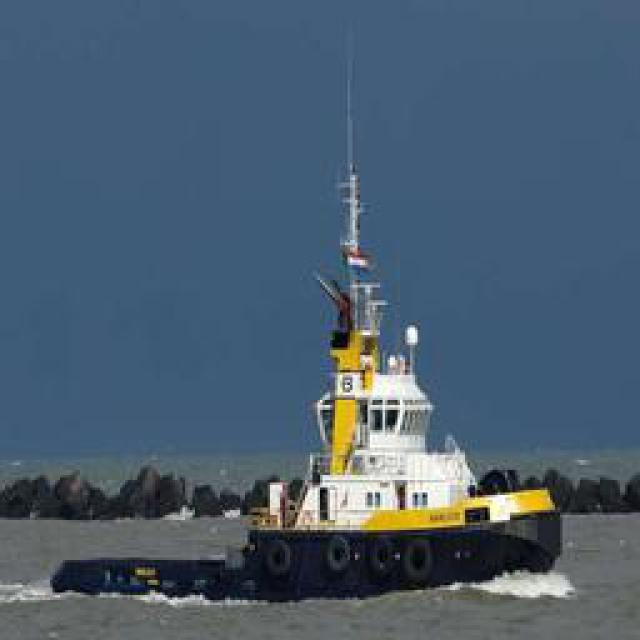Ship: (209, 252, 572, 590)
